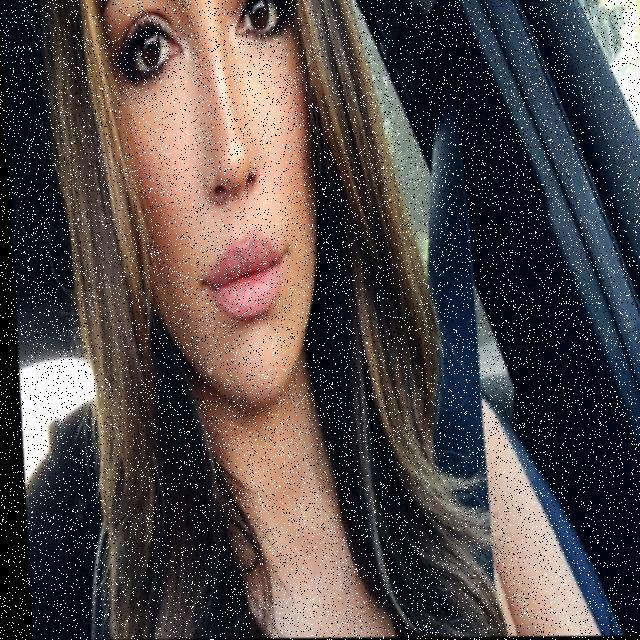seatbelt: (250, 134, 532, 639)
